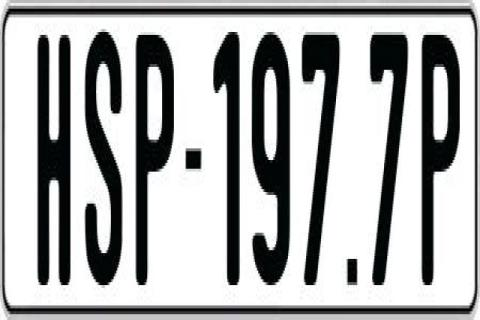0: (251, 27, 292, 297), (368, 29, 408, 297), (300, 27, 338, 280), (214, 23, 239, 276)
H: (36, 35, 74, 291)
P: (136, 35, 177, 291), (419, 35, 456, 303)
S: (84, 27, 121, 297)
